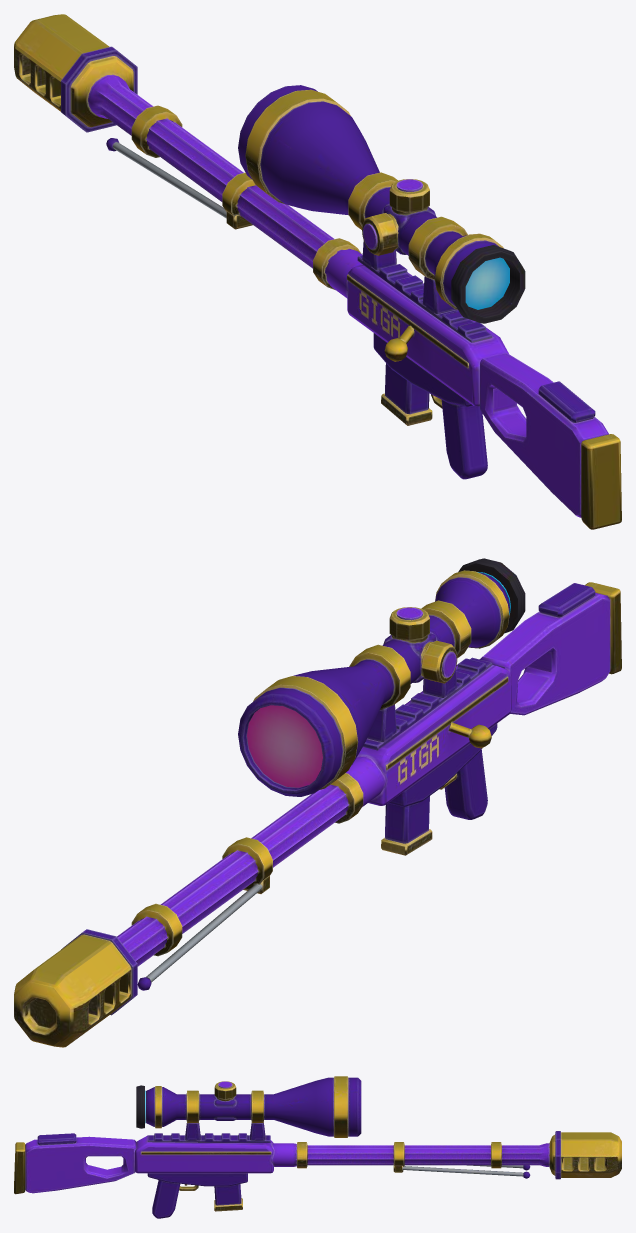
The model's file is sniper_giga.glb.
The picture shows the model from 3 angles, top to bottom: view 1: azimuth 30°, elevation 25°; view 2: azimuth 150°, elevation 25°; view 3: azimuth 270°, elevation 25°; orthographic projection. The views are drawn at different scales.
Parts seen in each view (by area): view 1: sniper_giga; view 2: sniper_giga; view 3: sniper_giga.
Part boxes in pixels (bbox=[...]): sniper_giga: bbox=[14, 14, 621, 529]; sniper_giga: bbox=[14, 558, 621, 1047]; sniper_giga: bbox=[14, 1076, 621, 1218].
Size of the model in its own units: 0.195 by 0.4694 by 1.88.
8 materials, 8 textured.
